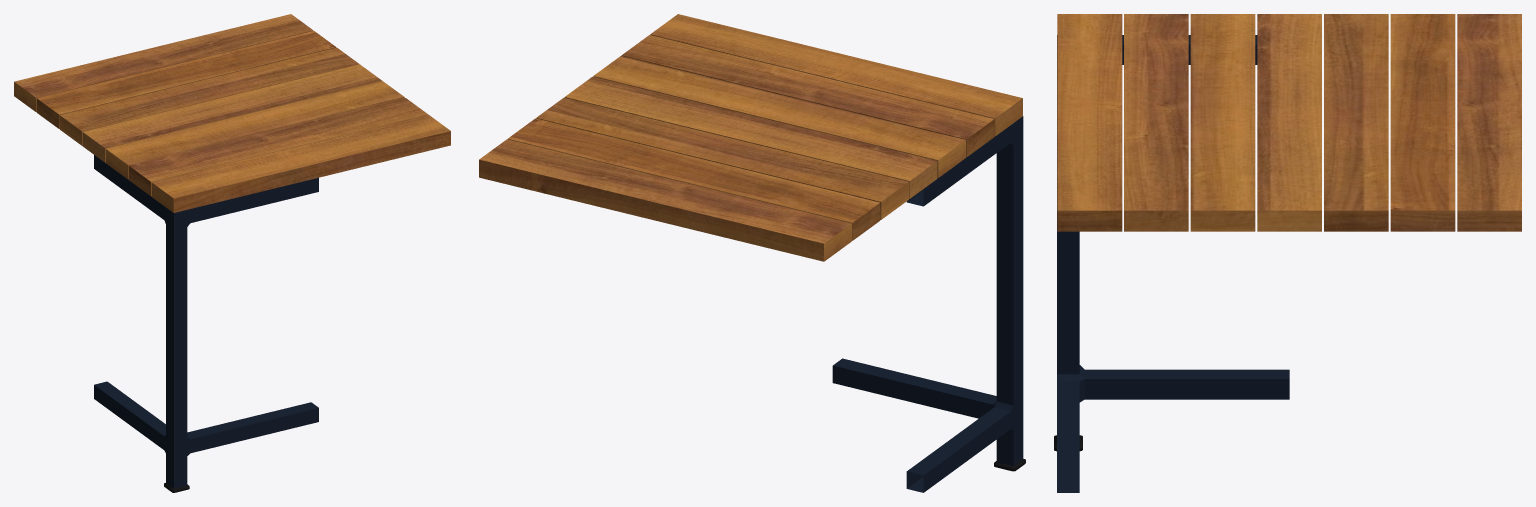
Rendered from endtable-2.gltf.
The picture shows the model from 3 angles, left to right: view 1: azimuth 30°, elevation 25°; view 2: azimuth 150°, elevation 25°; view 3: azimuth 270°, elevation 25°; orthographic projection. The views are drawn at different scales.
Parts seen in each view (by area): view 1: SM_Corner table wood, SM_Corner table metal; view 2: SM_Corner table wood, SM_Corner table metal; view 3: SM_Corner table wood, SM_Corner table metal.
Boxes of the visible parts, x1,y1,x2,y2 form: SM_Corner table wood: [14, 14, 450, 212]; SM_Corner table metal: [94, 155, 318, 492]; SM_Corner table wood: [479, 14, 1022, 261]; SM_Corner table metal: [832, 116, 1025, 492]; SM_Corner table wood: [1057, 14, 1521, 231]; SM_Corner table metal: [1054, 35, 1289, 492].
Size of the model in its own units: 0.4027 by 0.4046 by 0.4024.
Materials: 3 (1 with a texture image).
